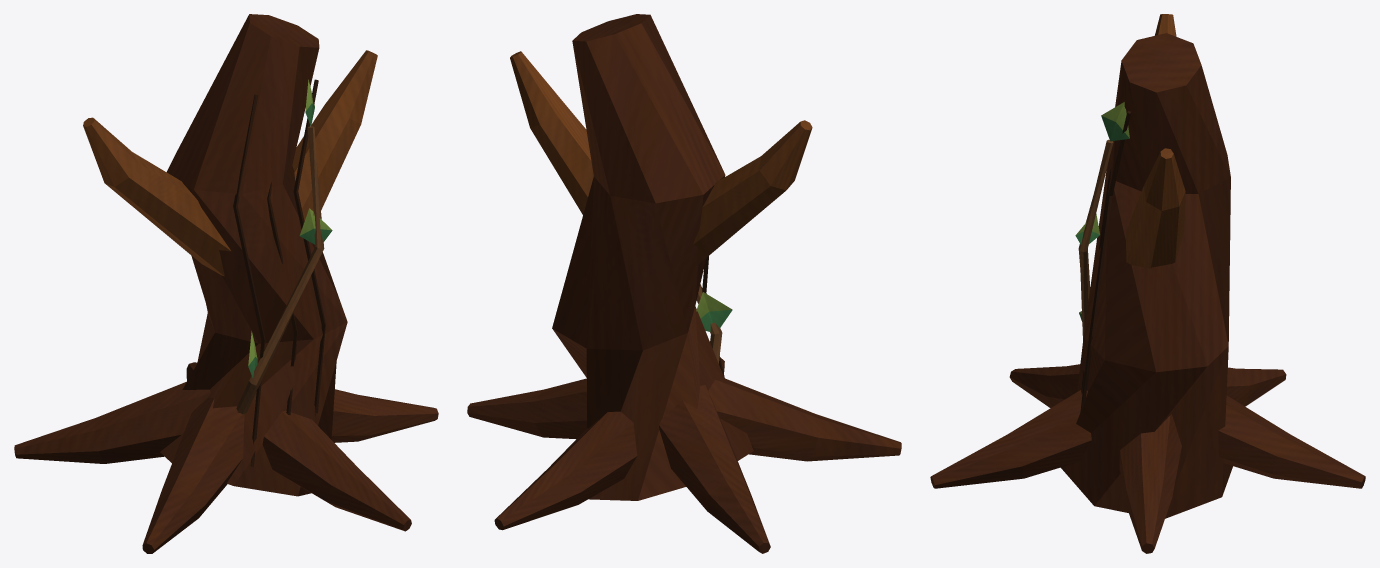
The model's file is forest_tree_snag.glb.
3 views of the same model, side by side, from view 1: azimuth 30°, elevation 25°; view 2: azimuth 150°, elevation 25°; view 3: azimuth 270°, elevation 25° (orthographic). The views are drawn at different scales.
Visible parts, largest first — view 1: Ancient twisting trunk, Tree buttress root.002, Tree buttress root.003, Broken woodland branch, Tree buttress root.004, Broken woodland branch.001, Tree buttress root, Woodland joint-following vine, Tree bark carved groove, Tree bark carved groove.002, Tree bark carved groove.001, Woodland shared curved ivy leaf.130; view 2: Ancient twisting trunk, Tree buttress root.002, Tree buttress root.003, Tree buttress root.001, Broken woodland branch, Broken woodland branch.001, Tree buttress root, Woodland shared curved ivy leaf.129; view 3: Ancient twisting trunk, Tree buttress root.004, Tree buttress root.001, Tree buttress root, Broken woodland branch.001, Tree buttress root.003, Tree buttress root.002, Woodland joint-following vine, Tree bark carved groove.002, Woodland shared curved ivy leaf.131.
Boxes of the visible parts, box(x1,y1,x2,y2) form: Ancient twisting trunk: box(160, 14, 347, 496); Tree buttress root.002: box(14, 381, 210, 463); Tree buttress root.003: box(142, 398, 244, 553); Broken woodland branch: box(83, 117, 231, 276); Tree buttress root.004: box(262, 410, 411, 531); Broken woodland branch.001: box(292, 50, 377, 220); Tree buttress root: box(331, 389, 438, 442); Woodland joint-following vine: box(236, 126, 324, 414); Tree bark carved groove: box(233, 94, 265, 466); Tree bark carved groove.002: box(293, 79, 325, 415); Tree bark carved groove.001: box(267, 180, 297, 414); Woodland shared curved ivy leaf.130: box(299, 208, 332, 244); Ancient twisting trunk: box(552, 14, 753, 500); Tree buttress root.002: box(659, 385, 770, 553); Tree buttress root.003: box(708, 378, 901, 461); Tree buttress root.001: box(494, 411, 637, 530); Broken woodland branch: box(693, 120, 812, 265); Broken woodland branch.001: box(510, 51, 593, 214); Tree buttress root: box(467, 378, 586, 439); Woodland shared curved ivy leaf.129: box(696, 292, 732, 331); Ancient twisting trunk: box(1060, 33, 1232, 518); Tree buttress root.004: box(930, 390, 1091, 488); Tree buttress root.001: box(1218, 395, 1365, 488); Tree buttress root: box(1119, 414, 1181, 553); Broken woodland branch.001: box(1126, 148, 1185, 268); Tree buttress root.003: box(1009, 364, 1080, 407); Tree buttress root.002: box(1226, 367, 1286, 406); Woodland joint-following vine: box(1078, 139, 1113, 340); Tree bark carved groove.002: box(1080, 110, 1131, 412); Woodland shared curved ivy leaf.131: box(1101, 102, 1129, 141).
Size of the model in its own units: 1.54 by 1.88 by 1.61.
6 materials, 6 textured.
